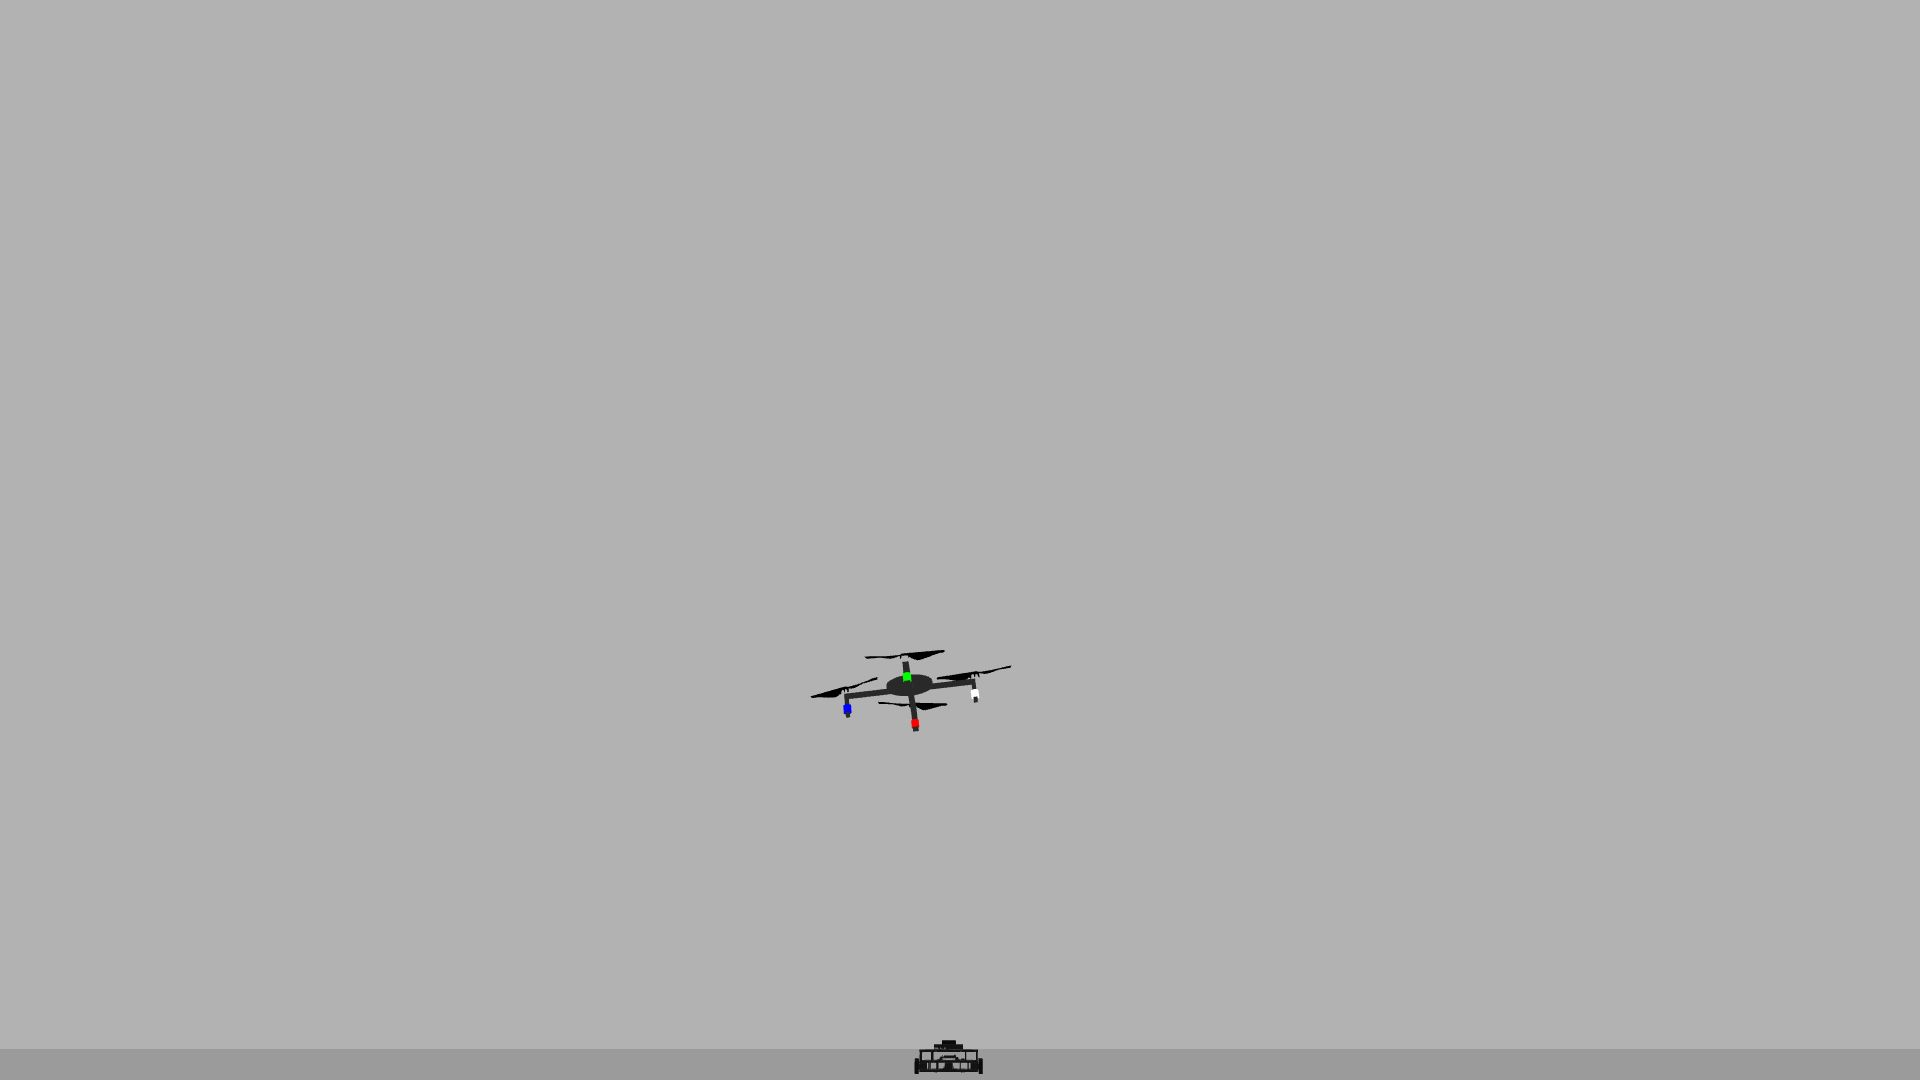drone: (804, 622, 1025, 756)
